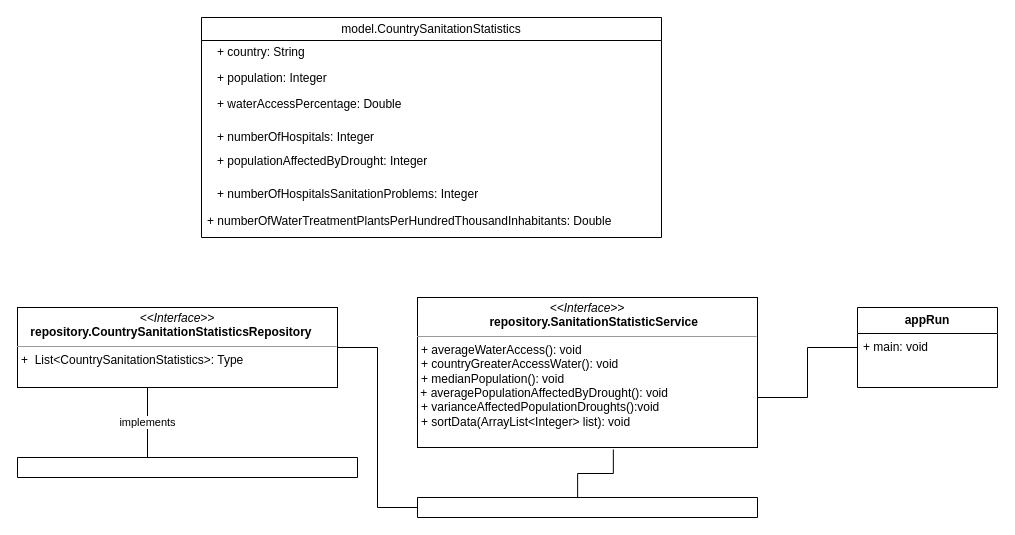
The diagram is 1015 pixels wide and 535 high, and some of its shapes have lost their labels. Here are the shapes that lost their labels. From the top down, the centre of each, then its label:
pixel 187 467: repository.CountrySanitationStatisticsRepositoryImpl
pixel 587 507: repository.SanitationStatisticServiceImpl
